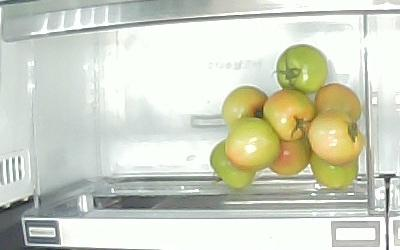tomato: (262, 88, 317, 141), (225, 117, 279, 170), (308, 111, 362, 164), (276, 45, 328, 93), (210, 139, 257, 188), (313, 83, 361, 127), (309, 149, 358, 190), (222, 86, 270, 127), (268, 135, 311, 176)
